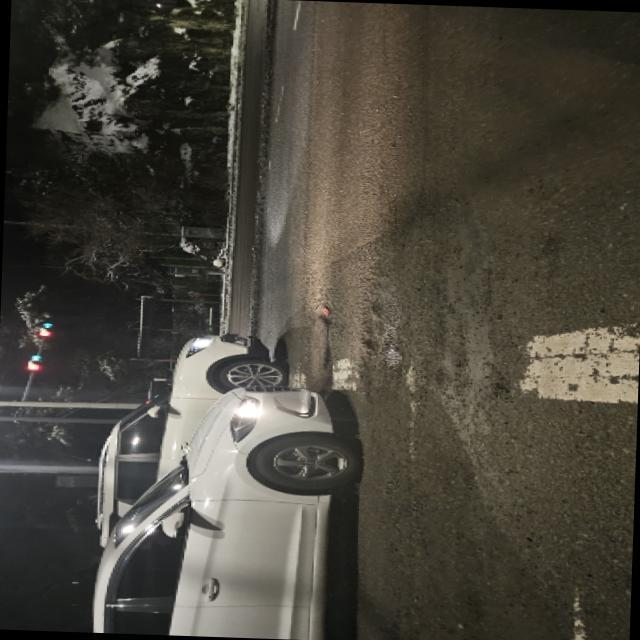pothole: (310, 277, 420, 379)
